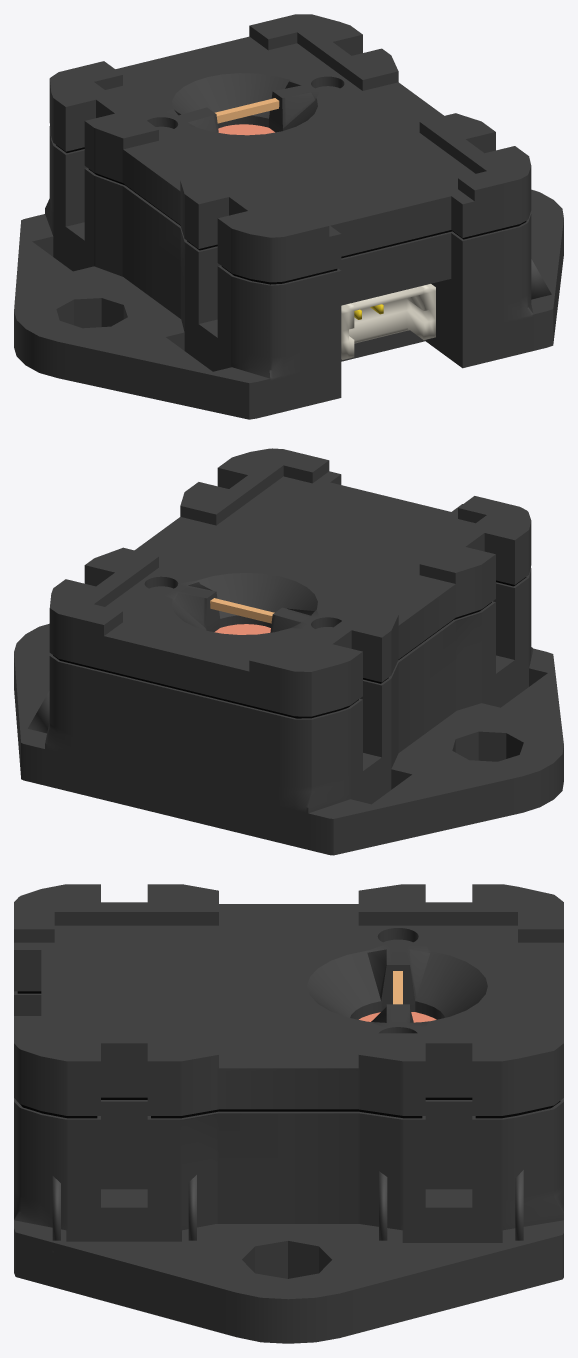
Rendered from BESLITE.glb.
3 renders of one model, top to bottom at view 1: azimuth 30°, elevation 25°; view 2: azimuth 150°, elevation 25°; view 3: azimuth 270°, elevation 25°, orthographic. The views are drawn at different scales.
Visible parts, largest first — view 1: Cube.006; view 2: Cube.006; view 3: Cube.006.
Boxes of the visible parts, x1,y1,x2,y2 form: Cube.006: [14, 14, 563, 419]; Cube.006: [14, 448, 563, 855]; Cube.006: [14, 884, 563, 1343].
Bounding box in the file's own units: 1.54 × 0.4885 × 1.14.
